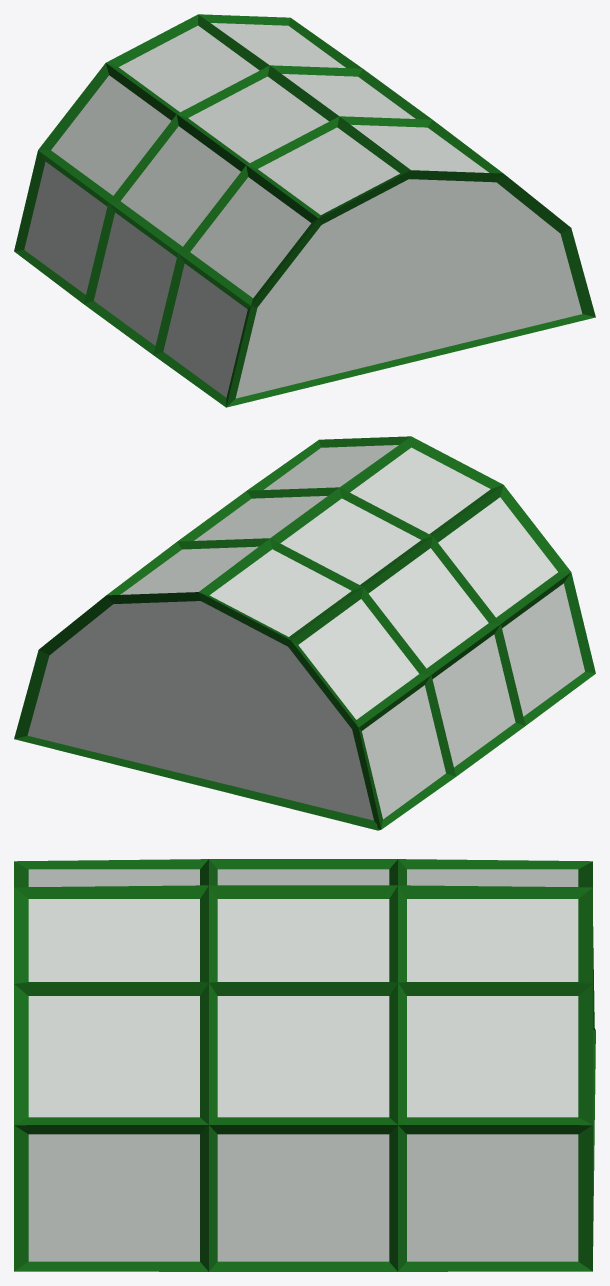
Rendered from Zone3_Greenhouse_beside_oldLin_NEW.glb.
The picture shows the model from 3 angles, top to bottom: view 1: azimuth 30°, elevation 25°; view 2: azimuth 150°, elevation 25°; view 3: azimuth 270°, elevation 25°; orthographic projection. The views are drawn at different scales.
Parts seen in each view (by area): view 1: Object_3, Object_2; view 2: Object_3, Object_2; view 3: Object_3, Object_2.
Boxes of the visible parts, x1,y1,x2,y2 form: Object_3: [24, 23, 582, 398]; Object_2: [14, 14, 595, 407]; Object_3: [27, 445, 584, 820]; Object_2: [14, 436, 595, 830]; Object_3: [28, 869, 578, 1261]; Object_2: [14, 859, 595, 1271].
Size of the model in its own units: 2.06 by 1.04 by 2.05.
